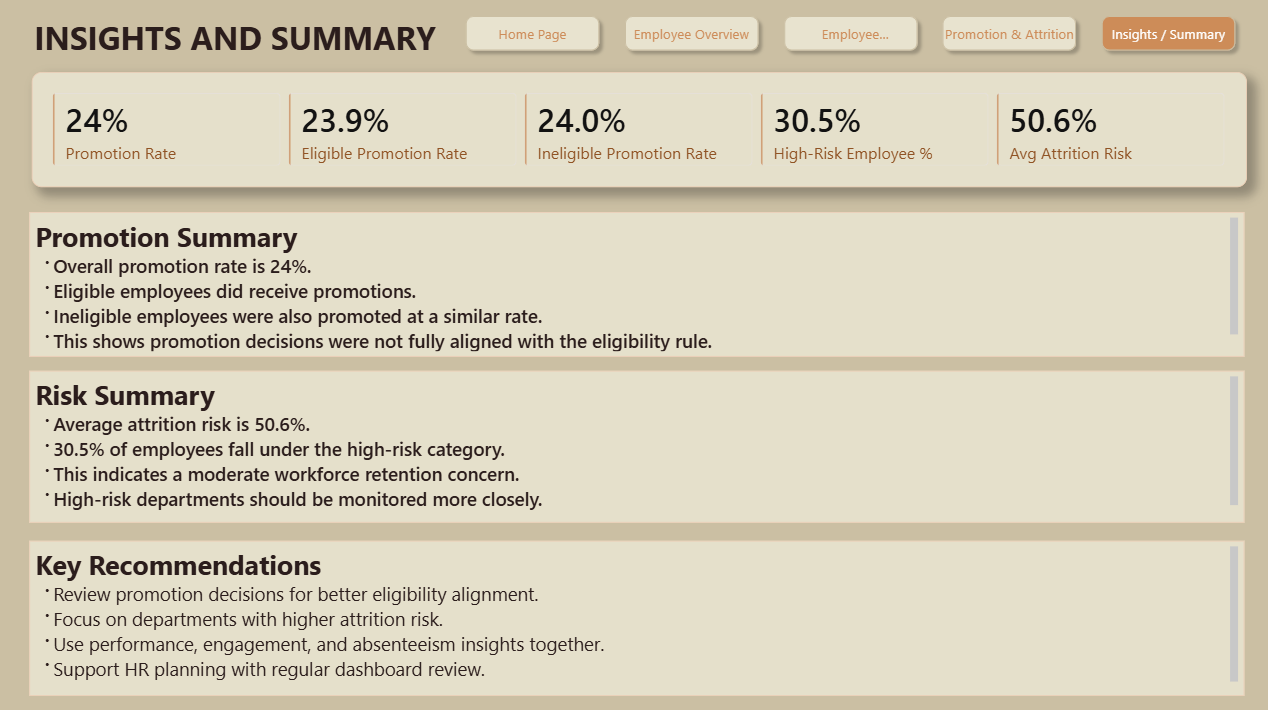

What the dashboard file says about the page in this screenshot:
{"tool":"powerbi","page":{"name":"Insights / Summary","canvas":[1280,720],"ordinal":4},"visuals":[{"type":"textbox","box":[31.7,13.3,431.7,61.7],"z":0},{"type":"cardVisual","fields":{"Data":["CPM_Properties_Performance_n_Promotion (1).Promotion Rate","CPM_Properties_Performance_n_Promotion (1).Eligible Promotion Rate","CPM_Properties_Performance_n_Promotion (1).Ineligible Promotion Rate","CPM_Properties_Performance_n_Promotion (1).High Risk %","CPM_Properties_Performance_n_Promotion (1).Avg Attrition"]},"box":[33.3,75,1215,115],"z":1},{"type":"textbox","box":[31.7,215,1215,145],"z":2},{"type":"textbox","box":[31.7,373.3,1215,151.7],"z":3},{"type":"textbox","box":[31.7,543.3,1215,155],"z":4},{"type":"pageNavigator","box":[460,11.7,788.3,50],"z":5}]}

Visuals, with their boxes in screenshot pixels (x1, y1, x2, y2), scaled from the page's 1280x720 canvas onto the 1268x710 screenshot:
textbox: {"left": 31, "top": 13, "right": 459, "bottom": 74}
cardVisual - CPM_Properties_Performance_n_Promotion (1).Promotion Rate x CPM_Properties_Performance_n_Promotion (1).Eligible Promotion Rate: {"left": 33, "top": 74, "right": 1237, "bottom": 187}
textbox: {"left": 31, "top": 212, "right": 1235, "bottom": 355}
textbox: {"left": 31, "top": 368, "right": 1235, "bottom": 518}
textbox: {"left": 31, "top": 536, "right": 1235, "bottom": 689}
pageNavigator: {"left": 456, "top": 12, "right": 1237, "bottom": 61}
